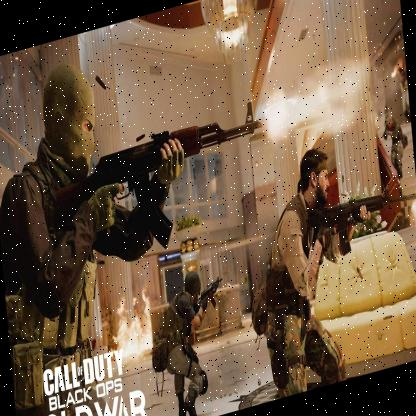rifle: (48, 100, 270, 262), (307, 176, 416, 262)
